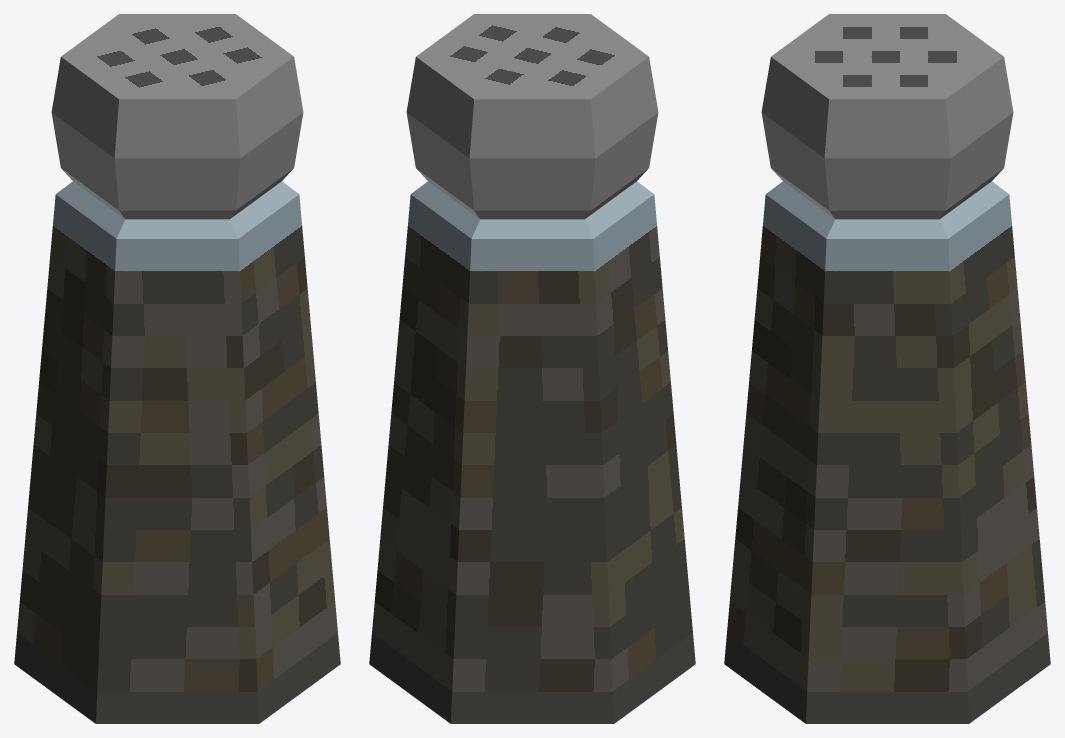
The model's file is PepperShaker.fbx.
The picture shows the model from 3 angles, left to right: view 1: azimuth 30°, elevation 25°; view 2: azimuth 150°, elevation 25°; view 3: azimuth 270°, elevation 25°; orthographic projection.
Parts seen in each view (by area): view 1: Pepper.020; view 2: Pepper.020; view 3: Pepper.020.
Part boxes in pixels (bbox=[...]): Pepper.020: bbox=[14, 14, 340, 723]; Pepper.020: bbox=[369, 14, 695, 723]; Pepper.020: bbox=[724, 14, 1050, 723].
Bounding box in the file's own units: 8.36 × 19.82 × 9.66.
